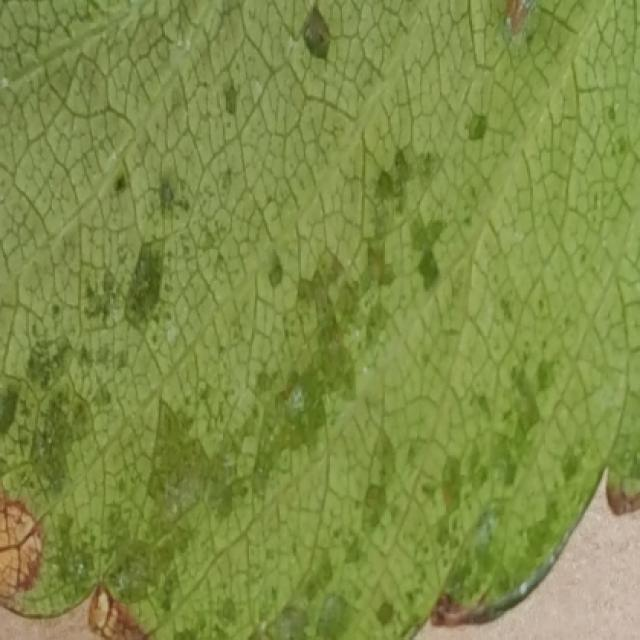Angular Leafspot: (2, 0, 640, 638)
